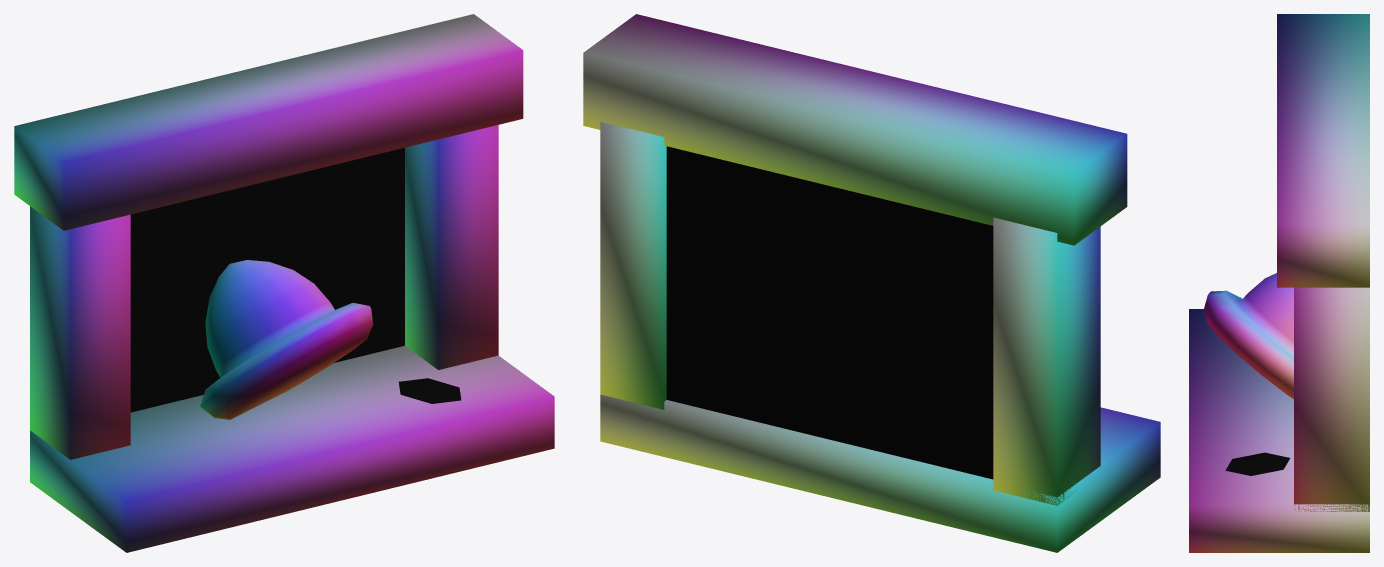
Rendered from SM_Pit_HelmNiche_A_LOD1.fbx.
3 renders of one model, left to right at view 1: azimuth 30°, elevation 25°; view 2: azimuth 150°, elevation 25°; view 3: azimuth 270°, elevation 25°, orthographic. The views are drawn at different scales.
Visible parts, largest first — view 1: SM_Pit_HelmNiche_A_LOD1; view 2: SM_Pit_HelmNiche_A_LOD1; view 3: SM_Pit_HelmNiche_A_LOD1.
Boxes of the visible parts, x1,y1,x2,y2 form: SM_Pit_HelmNiche_A_LOD1: (14,14,554,552); SM_Pit_HelmNiche_A_LOD1: (583,14,1160,552); SM_Pit_HelmNiche_A_LOD1: (1189,14,1369,552).
Bounding box in the file's own units: 0.8744 × 0.6544 × 0.3184.
